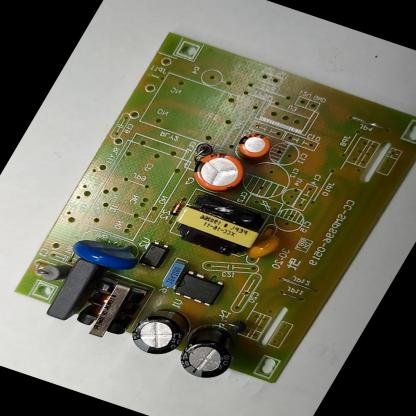Cap1: (183, 145, 252, 199)
Cap2: (232, 127, 275, 161)
Cap3: (124, 300, 198, 362)
Cap4: (171, 319, 249, 384)
MOSFET: (172, 268, 228, 307)
Mov: (66, 228, 146, 276)
Resistor: (34, 257, 73, 286)
Transformer: (166, 190, 272, 262), (66, 271, 151, 345)
